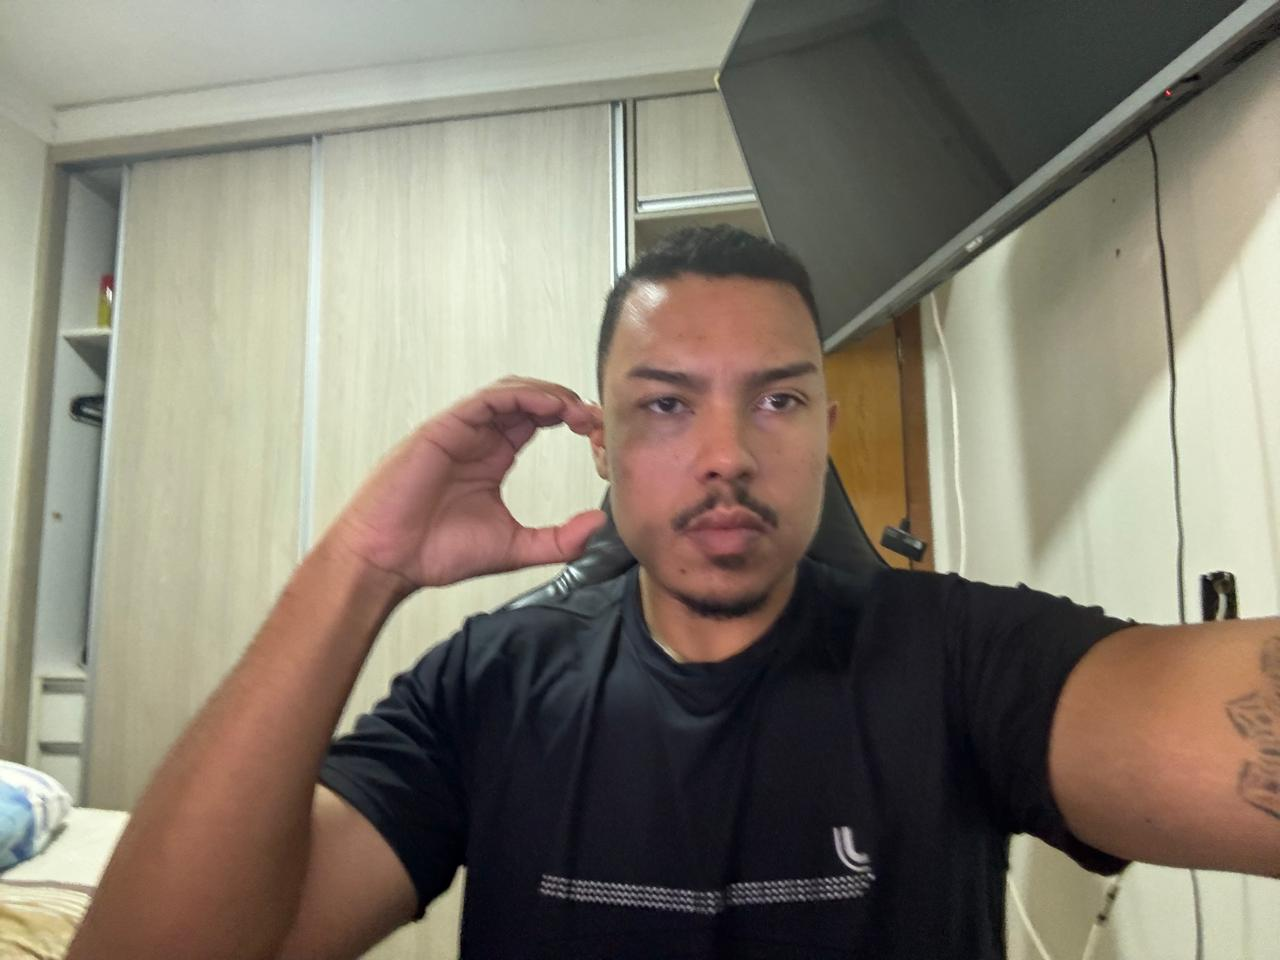c: (332, 371, 611, 600)
